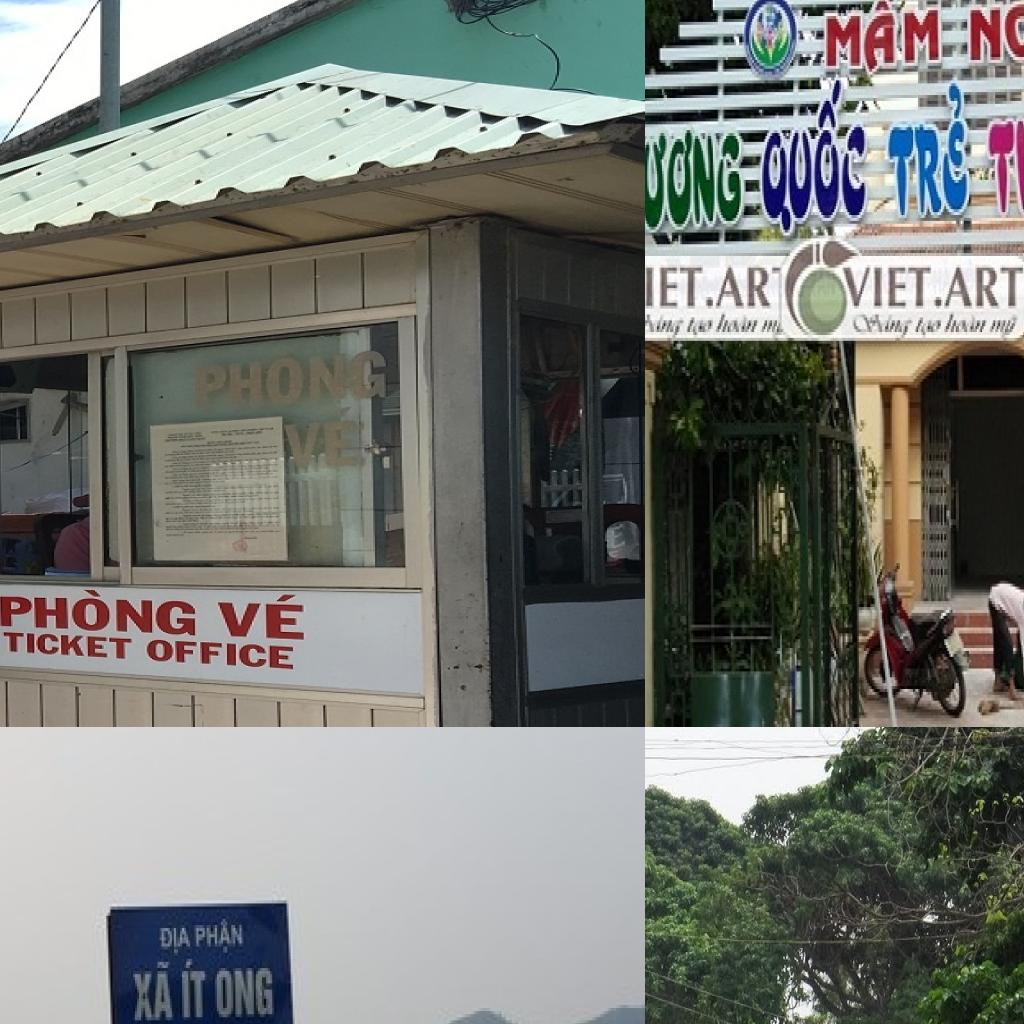text: (758, 63, 870, 247), (880, 78, 977, 226), (190, 347, 391, 412), (645, 124, 747, 238), (0, 585, 200, 638), (823, 0, 946, 80), (145, 636, 296, 673), (282, 403, 361, 472), (983, 98, 1024, 224), (213, 592, 309, 642), (841, 265, 936, 314), (2, 630, 136, 662), (212, 964, 278, 1024), (967, 0, 1024, 68), (942, 264, 1024, 311), (129, 958, 180, 1024), (714, 264, 777, 312), (645, 261, 704, 311), (192, 916, 248, 959), (846, 312, 918, 344), (180, 959, 211, 1023), (645, 311, 689, 343), (160, 925, 198, 962), (942, 311, 992, 338), (713, 311, 762, 338), (989, 312, 1023, 344), (913, 311, 946, 341), (683, 314, 716, 341), (759, 317, 782, 338)
